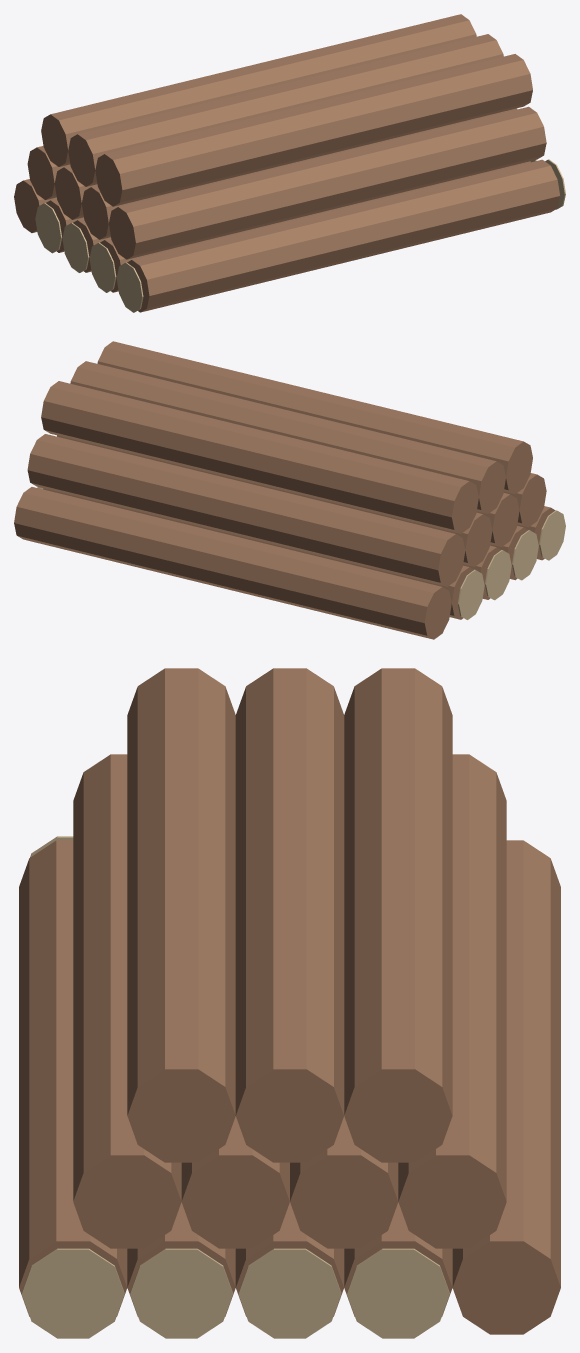
Rendered from LogPile.glb.
3 renders of one model, top to bottom at view 1: azimuth 30°, elevation 25°; view 2: azimuth 150°, elevation 25°; view 3: azimuth 270°, elevation 25°, orthographic. The views are drawn at different scales.
Parts seen in each view (by area): view 1: Log.009, Log.005, Log, Log.011, Log.010, Log.006, Log.008, Log.007, Log.001, Log.004, Log end, Log end.003 (+4 smaller); view 2: Log.004, Log.008, Log.011, Log.009, Log.010, Log.007, Log.003, Log.006, Log.005, Log end, Log end.001, Log end.003 (+4 smaller); view 3: Log.010, Log.009, Log.011, Log.005, Log.008, Log.004, Log, Log.006, Log.007, Log end.004, Log end.005, Log end.006 (+4 smaller).
Part boxes in pixels (box(x1,y1,x2,y2)): Log.009: box(95, 54, 532, 206); Log.005: box(109, 106, 546, 259); Log: box(127, 159, 559, 312); Log.011: box(41, 14, 476, 166); Log.010: box(68, 34, 503, 186); Log.006: box(81, 108, 517, 239); Log.008: box(27, 146, 70, 199); Log.007: box(54, 165, 97, 219); Log.001: box(100, 161, 530, 292); Log.004: box(14, 179, 56, 232); Log end: box(116, 262, 143, 312); Log end.003: box(35, 203, 62, 253); Log.004: box(14, 487, 451, 639); Log.008: box(27, 434, 465, 586); Log.011: box(41, 381, 478, 533); Log.009: box(97, 341, 532, 494); Log.010: box(70, 361, 505, 513); Log.007: box(57, 435, 492, 566); Log.003: box(43, 488, 473, 619); Log.006: box(476, 493, 519, 546); Log.005: box(503, 473, 546, 527); Log end: box(539, 510, 565, 560); Log end.001: box(512, 530, 538, 580); Log end.003: box(458, 569, 484, 619); Log.010: box(235, 668, 344, 1162); Log.009: box(127, 668, 235, 1162); Log.011: box(344, 668, 452, 1162); Log.005: box(73, 754, 181, 1248); Log.008: box(398, 754, 506, 1248); Log.004: box(452, 840, 560, 1334); Log: box(19, 840, 127, 1316); Log.006: box(181, 1116, 289, 1248); Log.007: box(290, 1116, 398, 1248); Log end.004: box(21, 1248, 124, 1338); Log end.005: box(130, 1248, 232, 1338); Log end.006: box(238, 1248, 341, 1338).
Bounding box in the file's own units: 7.22 × 2.16 × 4.
